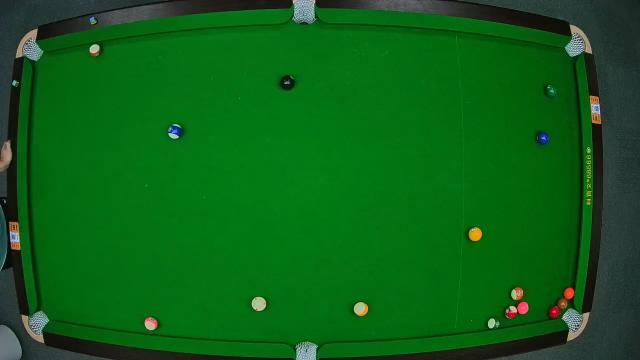bag1: (19, 38, 45, 62)
bag2: (291, 0, 317, 26)
bag3: (566, 29, 588, 57)
bag4: (22, 309, 50, 341)
bag5: (294, 340, 320, 360)
bag6: (563, 308, 585, 332)
ball0: (250, 296, 266, 312)
ball1: (466, 226, 482, 242)
ball10: (167, 124, 183, 139)
ball11: (504, 305, 518, 319)
ball12: (144, 317, 158, 331)
ball13: (511, 288, 524, 300)
ball14: (488, 314, 500, 330)
ball15: (88, 43, 104, 59)
ball2: (536, 131, 550, 146)
ball3: (547, 307, 563, 321)
ball4: (516, 302, 530, 316)
ball5: (562, 286, 576, 300)
ball6: (544, 84, 558, 98)
ball7: (555, 296, 569, 310)
ball8: (279, 75, 295, 91)
ball9: (353, 301, 369, 316)
